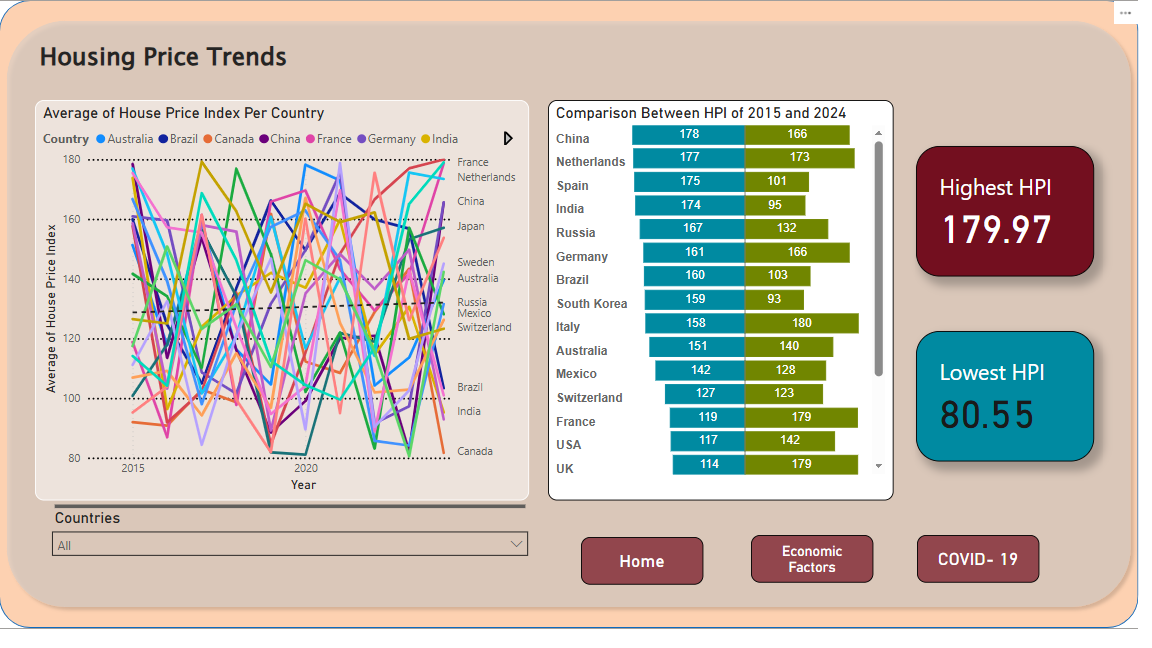

The dashboard page shown, as its layout file describes it:
{"tool":"powerbi","page":{"name":"Price Trends","canvas":[1280,720],"ordinal":1},"visuals":[{"type":"shape","box":[0,18.2,1266.4,698],"z":1000},{"type":"shape","box":[0,32.5,1266.2,668.8],"z":1500},{"type":"lineChart","title":"Average of House Price Index Per Country","fields":{"Series":["House_Market_Price.Country"],"Category":["House_Market_Price.Year"],"Y":["Avg(House_Market_Price.House Price Index)"]},"box":[40,128.8,548.8,445],"z":2000},{"type":"textbox","box":[40,55,858.8,91.2],"z":3000},{"type":"cardVisual","fields":{"Data":["Max(House_Market_Price.House Price Index)"]},"box":[1018.8,180,197.5,145],"z":4000},{"type":"cardVisual","fields":{"Data":["Min(House_Market_Price.House Price Index)"]},"box":[1018.8,385,197.5,145],"z":5000},{"type":"slicer","fields":{"Values":["House_Market_Price (2).Country"]},"box":[48.8,573.8,548.8,87.5],"z":6000},{"type":"TornadoChart1452517688218","title":"Comparison Between HPI of 2015 and 2024","fields":{"Category":["House_Market_Price (2).Country"],"Values":["Avg(House_Market_Price (2).HPI_2015)","Avg(House_Market_Price (2).HPI_2024)"]},"box":[610,128.8,383.8,445],"z":7000},{"type":"actionButton","box":[646.8,614.1,135.7,52.9],"z":8000},{"type":"actionButton","box":[835.4,612.7,135.7,52.9],"z":9000},{"type":"actionButton","box":[1019.6,612.7,135.7,52.9],"z":10000}]}

Visuals, with their boxes in screenshot pixels (x1, y1, x2, y2), scaled from the page's 1280x720 canvas onto the 1152x648 screenshot:
shape: [left=0, top=16, right=1140, bottom=645]
shape: [left=0, top=29, right=1140, bottom=631]
"Average of House Price Index Per Country" lineChart: [left=36, top=116, right=530, bottom=516]
textbox: [left=36, top=50, right=809, bottom=132]
cardVisual - Max(House_Market_Price.House Price Index): [left=917, top=162, right=1095, bottom=292]
cardVisual - Min(House_Market_Price.House Price Index): [left=917, top=346, right=1095, bottom=477]
slicer - House_Market_Price (2).Country: [left=44, top=516, right=538, bottom=595]
"Comparison Between HPI of 2015 and 2024" TornadoChart1452517688218: [left=549, top=116, right=894, bottom=516]
actionButton: [left=582, top=553, right=704, bottom=600]
actionButton: [left=752, top=551, right=874, bottom=599]
actionButton: [left=918, top=551, right=1040, bottom=599]
